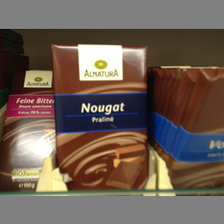chocolate: (51, 44, 152, 191), (1, 69, 55, 190)
